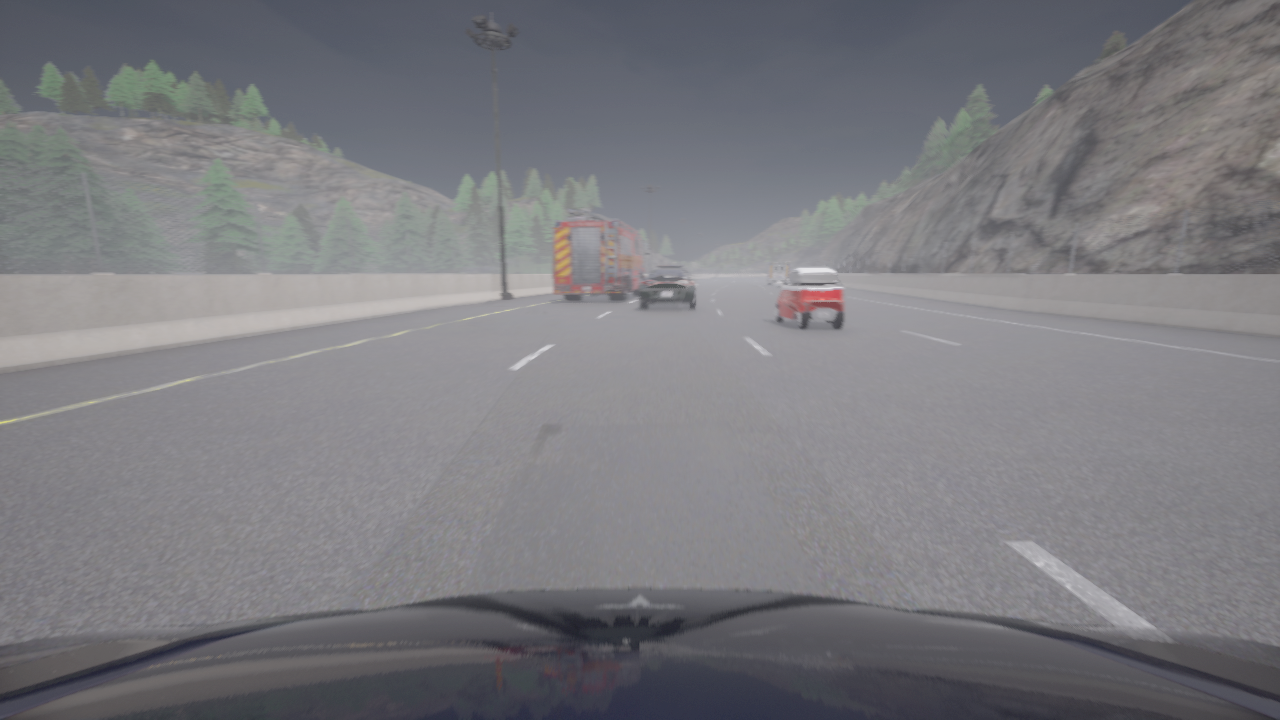cyclist: (0, 588, 1279, 719), (553, 209, 648, 300), (775, 267, 845, 329), (639, 264, 697, 309), (765, 261, 791, 284)
